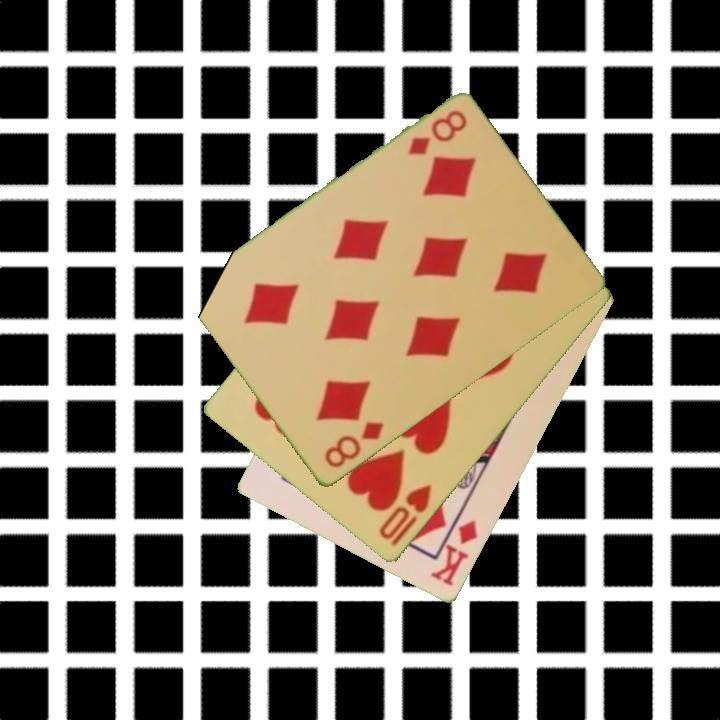10h: (375, 481, 435, 544)
8d: (320, 418, 387, 472), (404, 106, 470, 159)
Kd: (427, 507, 482, 590)
